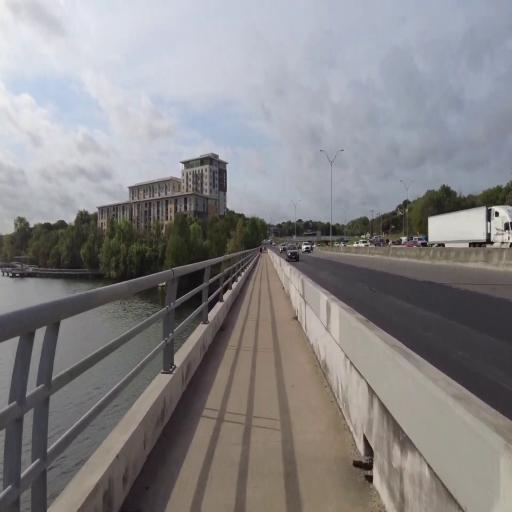Street_Light: (316, 145, 346, 251), (398, 175, 416, 249), (287, 194, 304, 242)
